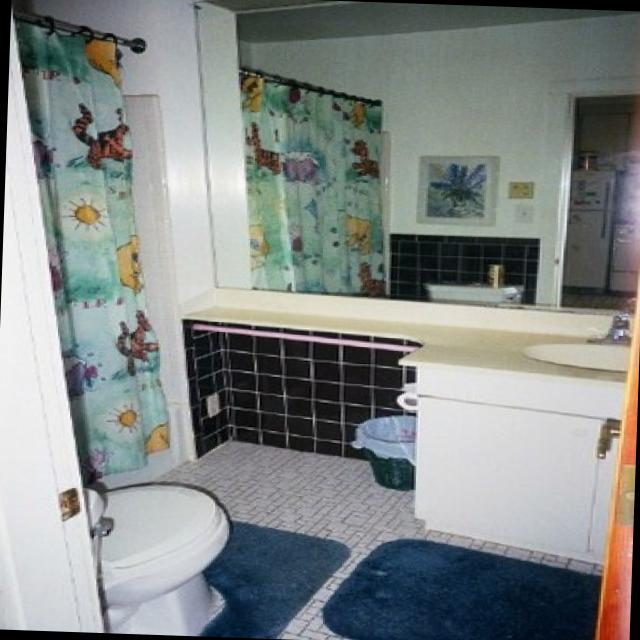cistern: (82, 484, 109, 598)
closet crop: (400, 358, 623, 560)
curtain crop: (14, 18, 168, 475)
door bars: (0, 15, 103, 627)
faucet handle: (606, 315, 623, 334)
floor -X: (0, 439, 628, 640)
litter bin: (354, 413, 413, 490)
mirror crop: (190, 0, 640, 314)
rail crop: (13, 5, 136, 46)
rug -partially obscured-: (323, 539, 597, 640), (199, 516, 351, 637)
shower tile: (83, 424, 180, 487)
wall clock: (200, 1, 640, 497), (15, 0, 188, 460), (162, 0, 230, 463)
washbasin crop: (523, 338, 631, 373)
wc chair crop: (97, 483, 229, 632)
